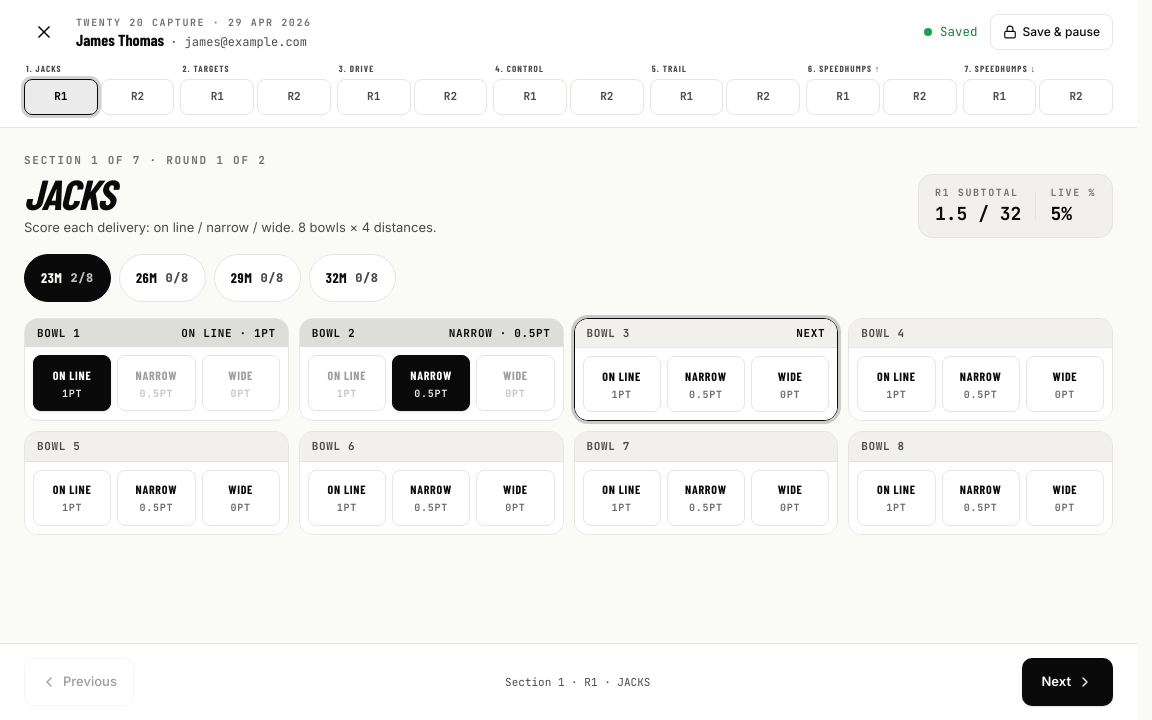
Test: <CaptureWizard /> — discard-with-confirm (12.5-3) › opens the AlertDialog when at least one shot is recorded
The image size is (1152, 720).
Click the button named "Discard this assessment".
click(44, 32)  # box [24,12,64,52]
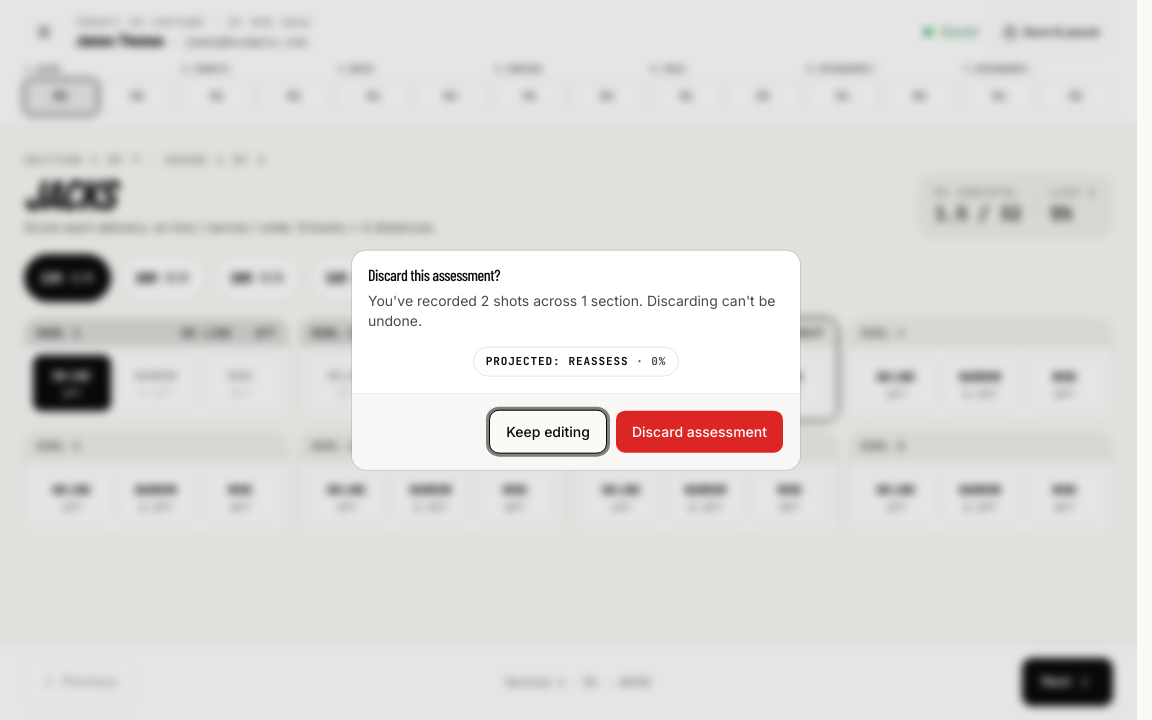
expect the heading "Discard this assessment?" is shown: met, box [368,265,500,284]
expect the text "2 shots across 1 section" is shown: met, box [368,292,775,329]
expect the button "Discard assessment" is shown: met, box [615,409,784,453]
